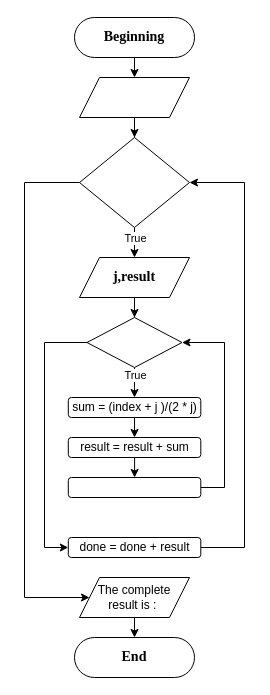
This 270x695 diagram has some shape labels left out. Each missing label, with the centre of its shape:
"done" belongs at (134,97).
"index = 1;index <= 10;inde++" belongs at (134,182).
"j <= 7" belongs at (134,342).
"j++" belongs at (134,487).
